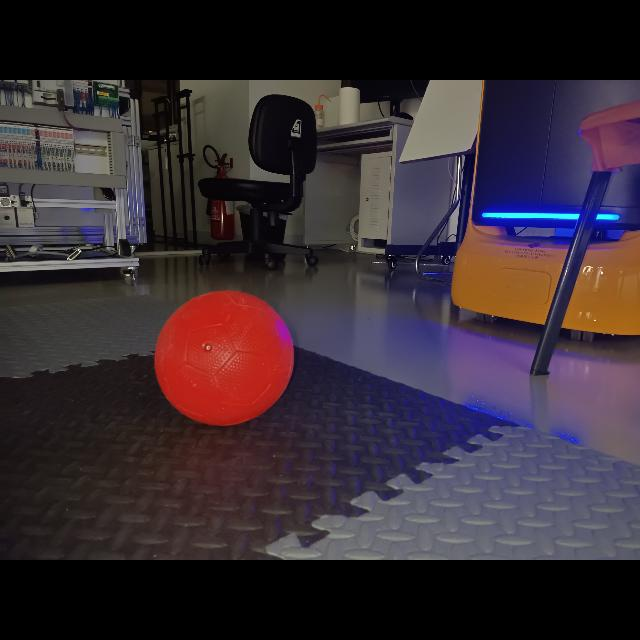R: (148, 290, 296, 430)
